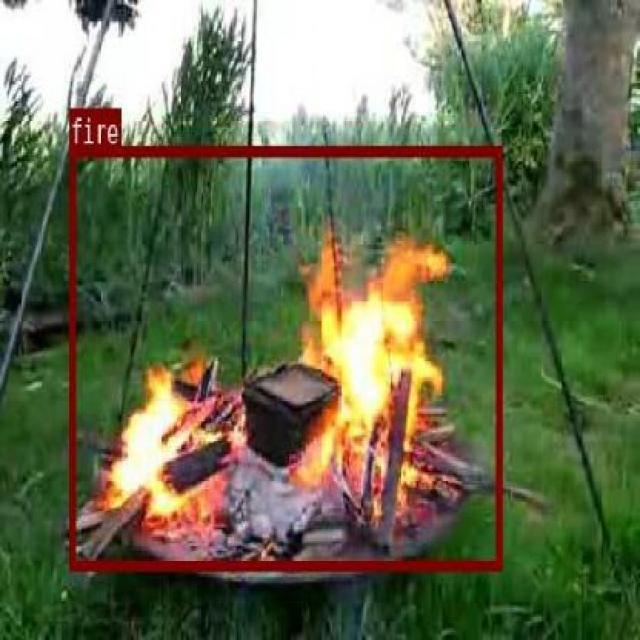Fire: (69, 146, 502, 568)
